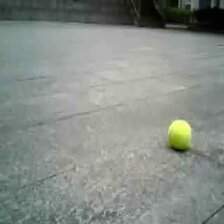tennis: (168, 121, 191, 148)
